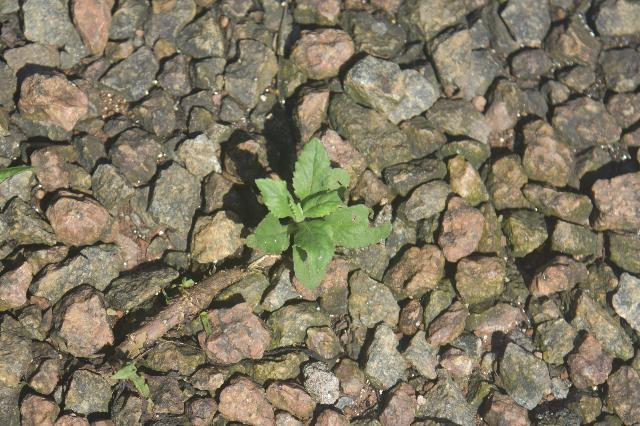MalezaMontesDelPlata: (236, 129, 398, 294)
